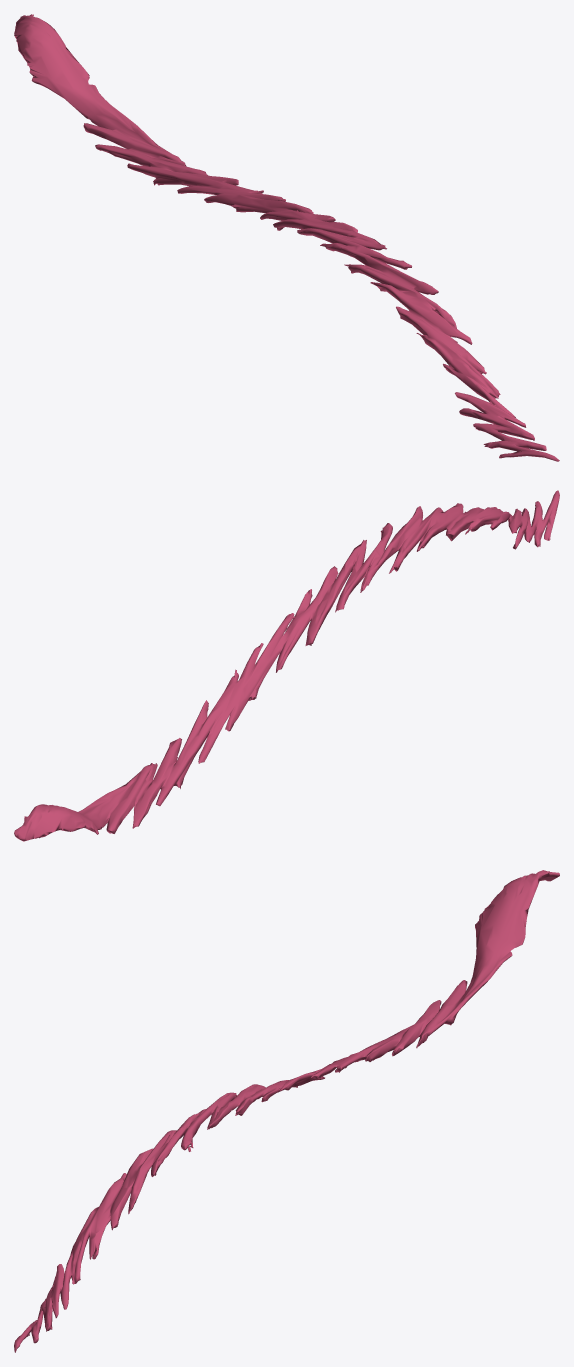
3 views of the same model, one above another, from view 1: azimuth 30°, elevation 25°; view 2: azimuth 150°, elevation 25°; view 3: azimuth 330°, elevation 25° (orthographic). The views are drawn at different scales.
Parts seen in each view (by area): view 1: 右侧回旋肌; view 2: 右侧回旋肌; view 3: 右侧回旋肌.
Part boxes in pixels (box(x1,y1,x2,y2)): 右侧回旋肌: box(14, 14, 559, 461); 右侧回旋肌: box(14, 490, 559, 841); 右侧回旋肌: box(14, 870, 559, 1352).
Size of the model in its own units: 0.0562 by 0.0979 by 0.9362.
